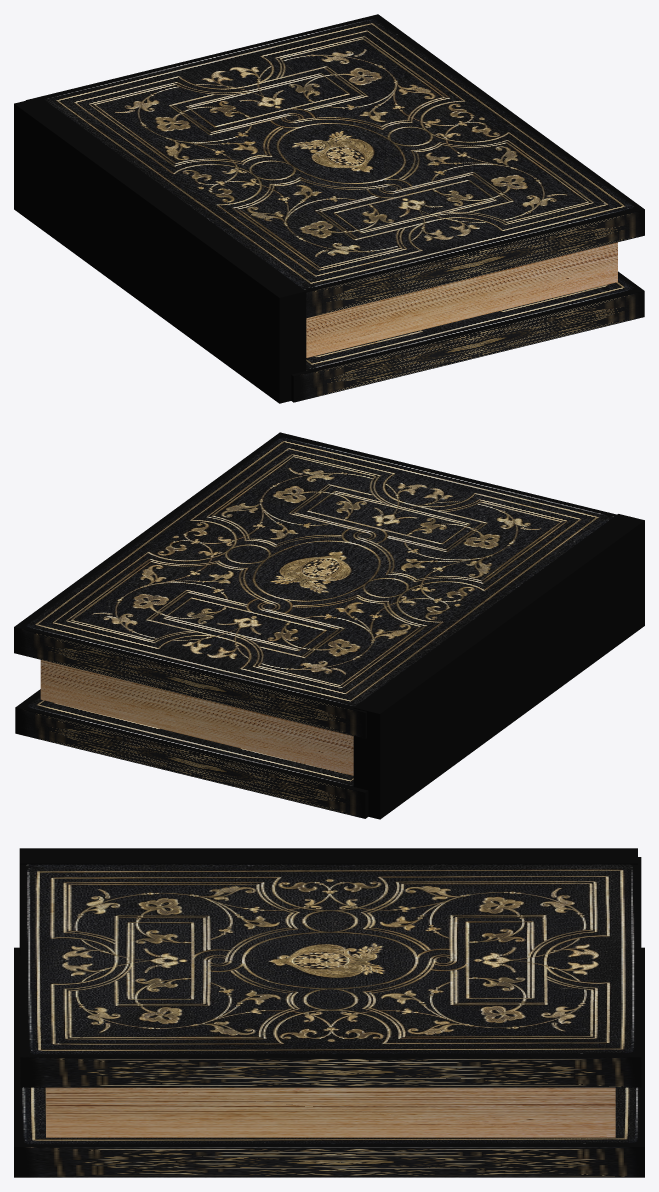
Rendered from book.fbx.
The picture shows the model from 3 angles, top to bottom: view 1: azimuth 30°, elevation 25°; view 2: azimuth 150°, elevation 25°; view 3: azimuth 270°, elevation 25°; orthographic projection. The views are drawn at different scales.
Visible parts, largest first — view 1: Box1, Box2, Box3, Box; view 2: Box1, Box2, Box3, Box; view 3: Box1, Box3, Box, Box2.
Part boxes in pixels (box(x1,y1,x2,y2)): Box1: box(26, 14, 644, 318); Box2: box(14, 97, 306, 403); Box3: box(291, 271, 644, 402); Box: box(306, 242, 617, 357); Box1: box(14, 432, 616, 738); Box2: box(353, 514, 644, 819); Box3: box(15, 689, 368, 818); Box: box(40, 660, 353, 775); Box1: box(20, 857, 641, 1087); Box3: box(14, 947, 644, 1177); Box: box(46, 1087, 615, 1137); Box2: box(19, 848, 637, 955).
Size of the model in its own units: 3.1 by 0.8582 by 3.98.
Materials: 3 (2 with a texture image).
